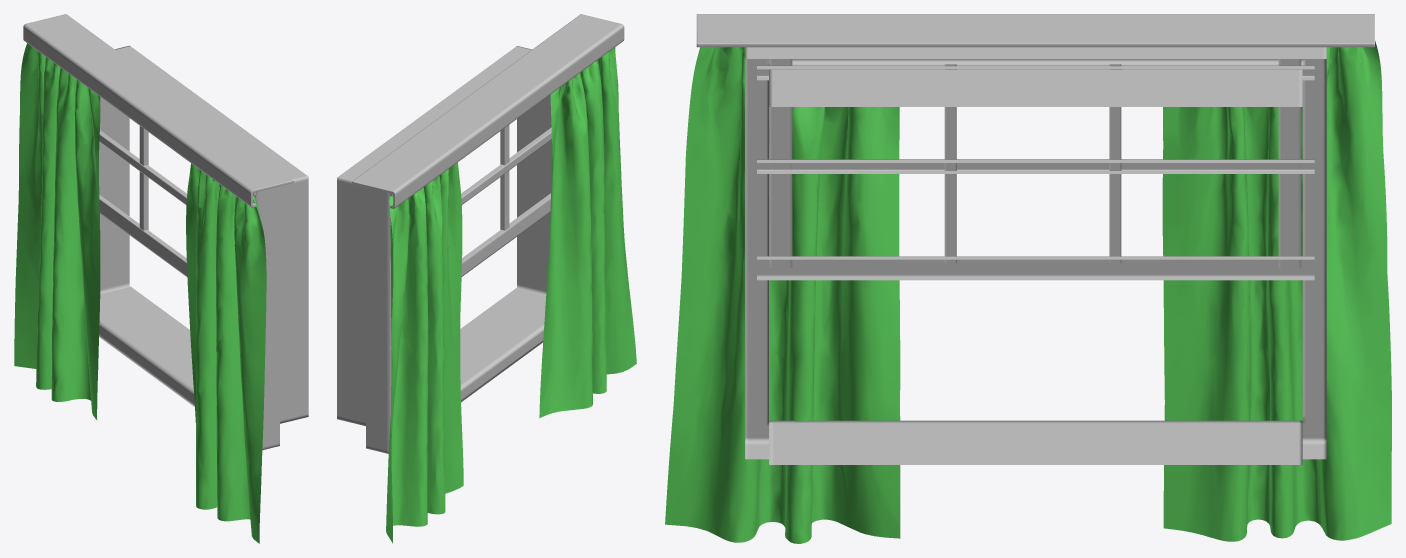
File: window.fbx
3 views of the same model, side by side, from view 1: azimuth 30°, elevation 25°; view 2: azimuth 150°, elevation 25°; view 3: azimuth 270°, elevation 25° (orthographic). The views are drawn at different scales.
Parts seen in each view (by area): view 1: window; view 2: window; view 3: window.
Part boxes in pixels (x1=…): window: x1=14, y1=14, x2=308, y2=543; window: x1=337, y1=14, x2=636, y2=543; window: x1=665, y1=14, x2=1391, y2=543.
Size of the model in its own units: 0.377 by 1.34 by 1.72.
